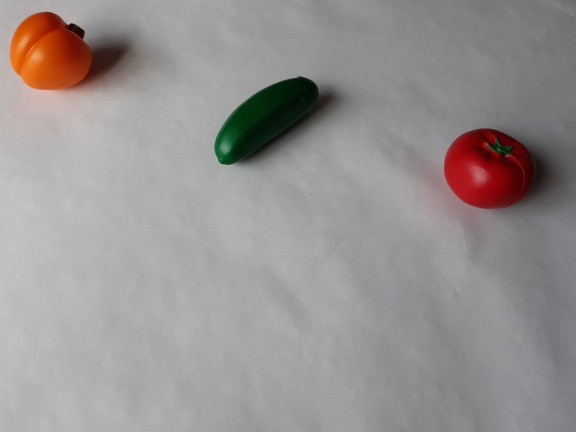apricot: (6, 8, 98, 95)
cucumber: (207, 67, 327, 171)
tomato: (436, 121, 538, 223)
